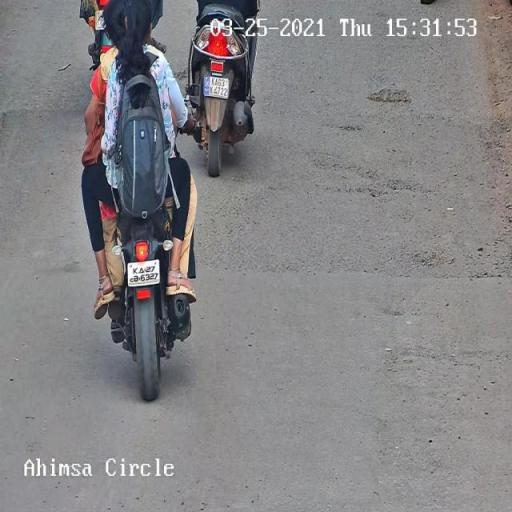tripple riding: (77, 0, 198, 238)
